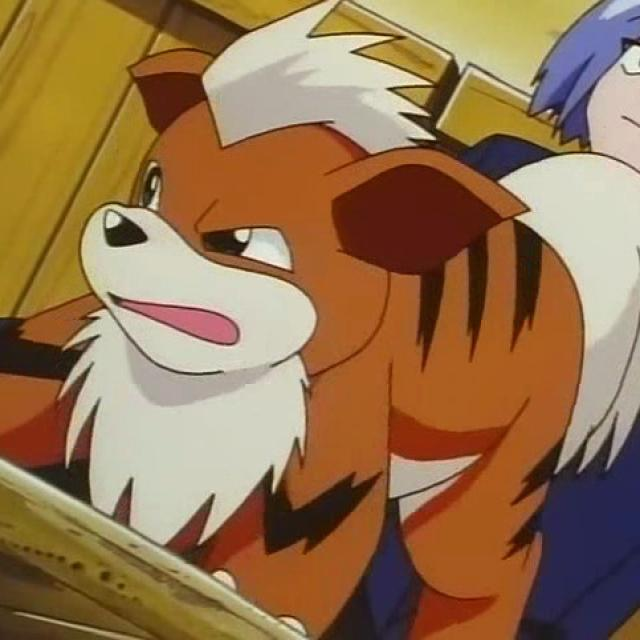Growlithe: (77, 88, 550, 544)
